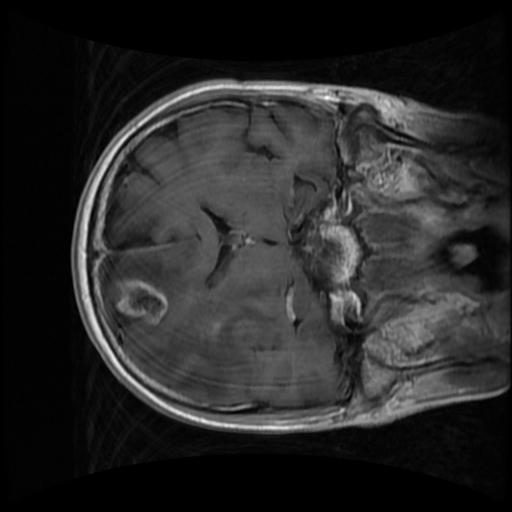glioma: (114, 278, 168, 325)
